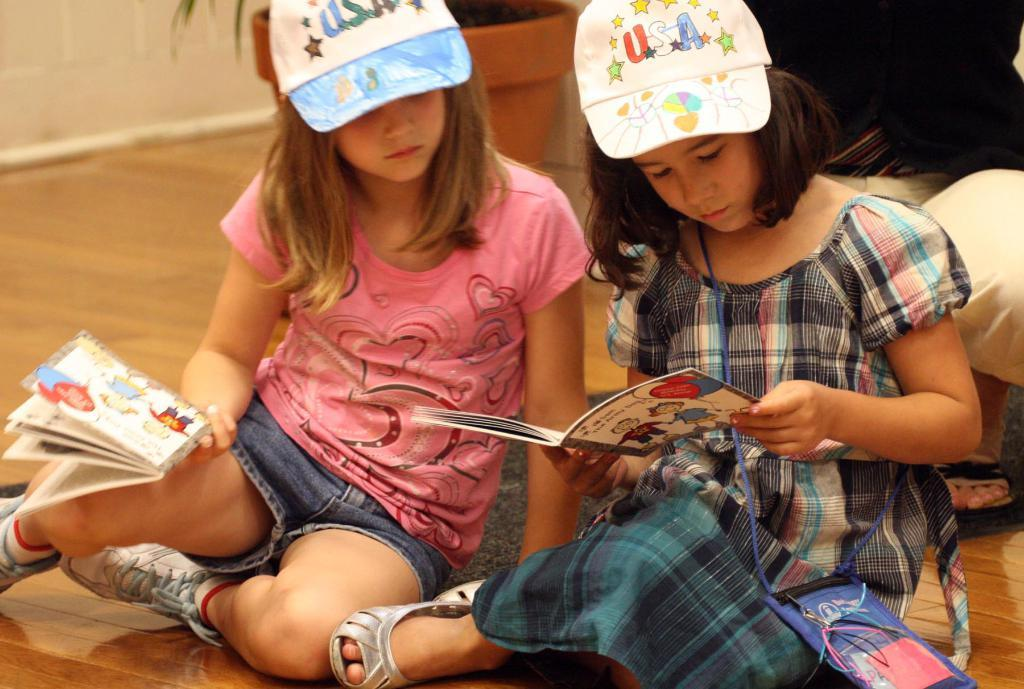Hat: (572, 0, 770, 162), (268, 0, 472, 134)
